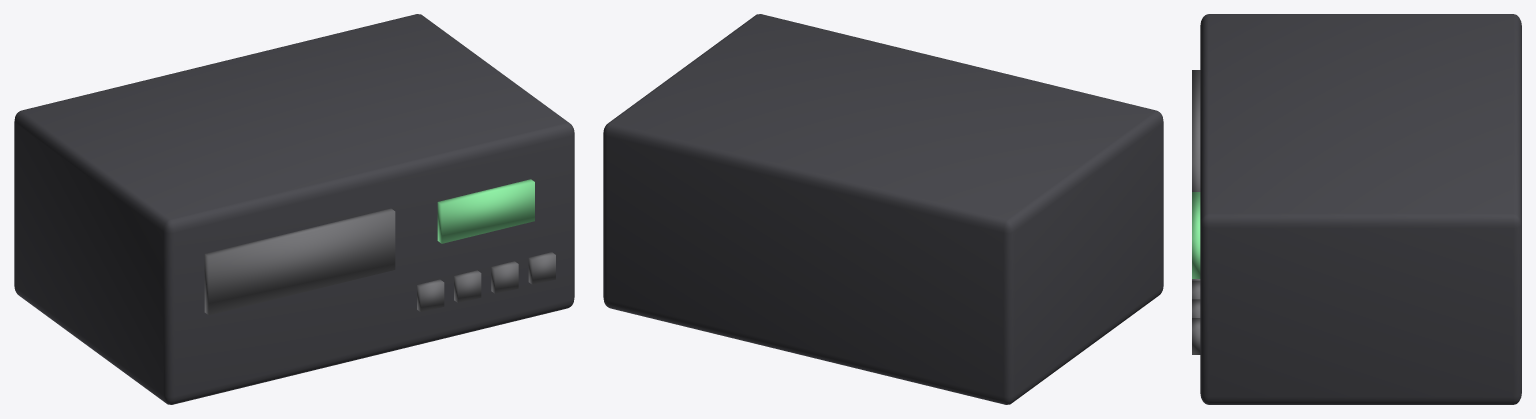
The model's file is vcr.glb.
3 renders of one model, left to right at view 1: azimuth 30°, elevation 25°; view 2: azimuth 150°, elevation 25°; view 3: azimuth 270°, elevation 25°, orthographic. The views are drawn at different scales.
Parts seen in each view (by area): view 1: Cube.007, Cube.008, Cube.009, Cube.010, Cube.011, Cube.012, Cube.013; view 2: Cube.007; view 3: Cube.007, Cube.008, Cube.009, Cube.013.
Boxes of the visible parts, left/top/right/bottom form: Cube.007: left=14, top=14, right=574, bottom=404; Cube.008: left=204, top=208, right=395, bottom=315; Cube.009: left=437, top=179, right=534, bottom=243; Cube.010: left=417, top=279, right=444, bottom=312; Cube.011: left=454, top=270, right=481, bottom=303; Cube.012: left=491, top=261, right=518, bottom=293; Cube.013: left=528, top=252, right=555, bottom=284; Cube.007: left=603, top=14, right=1163, bottom=404; Cube.007: left=1200, top=14, right=1521, bottom=404; Cube.008: left=1192, top=70, right=1200, bottom=191; Cube.009: left=1192, top=192, right=1200, bottom=278; Cube.013: left=1192, top=318, right=1200, bottom=354.
Bounding box in the file's own units: 8.8 × 3.8 × 5.95.
